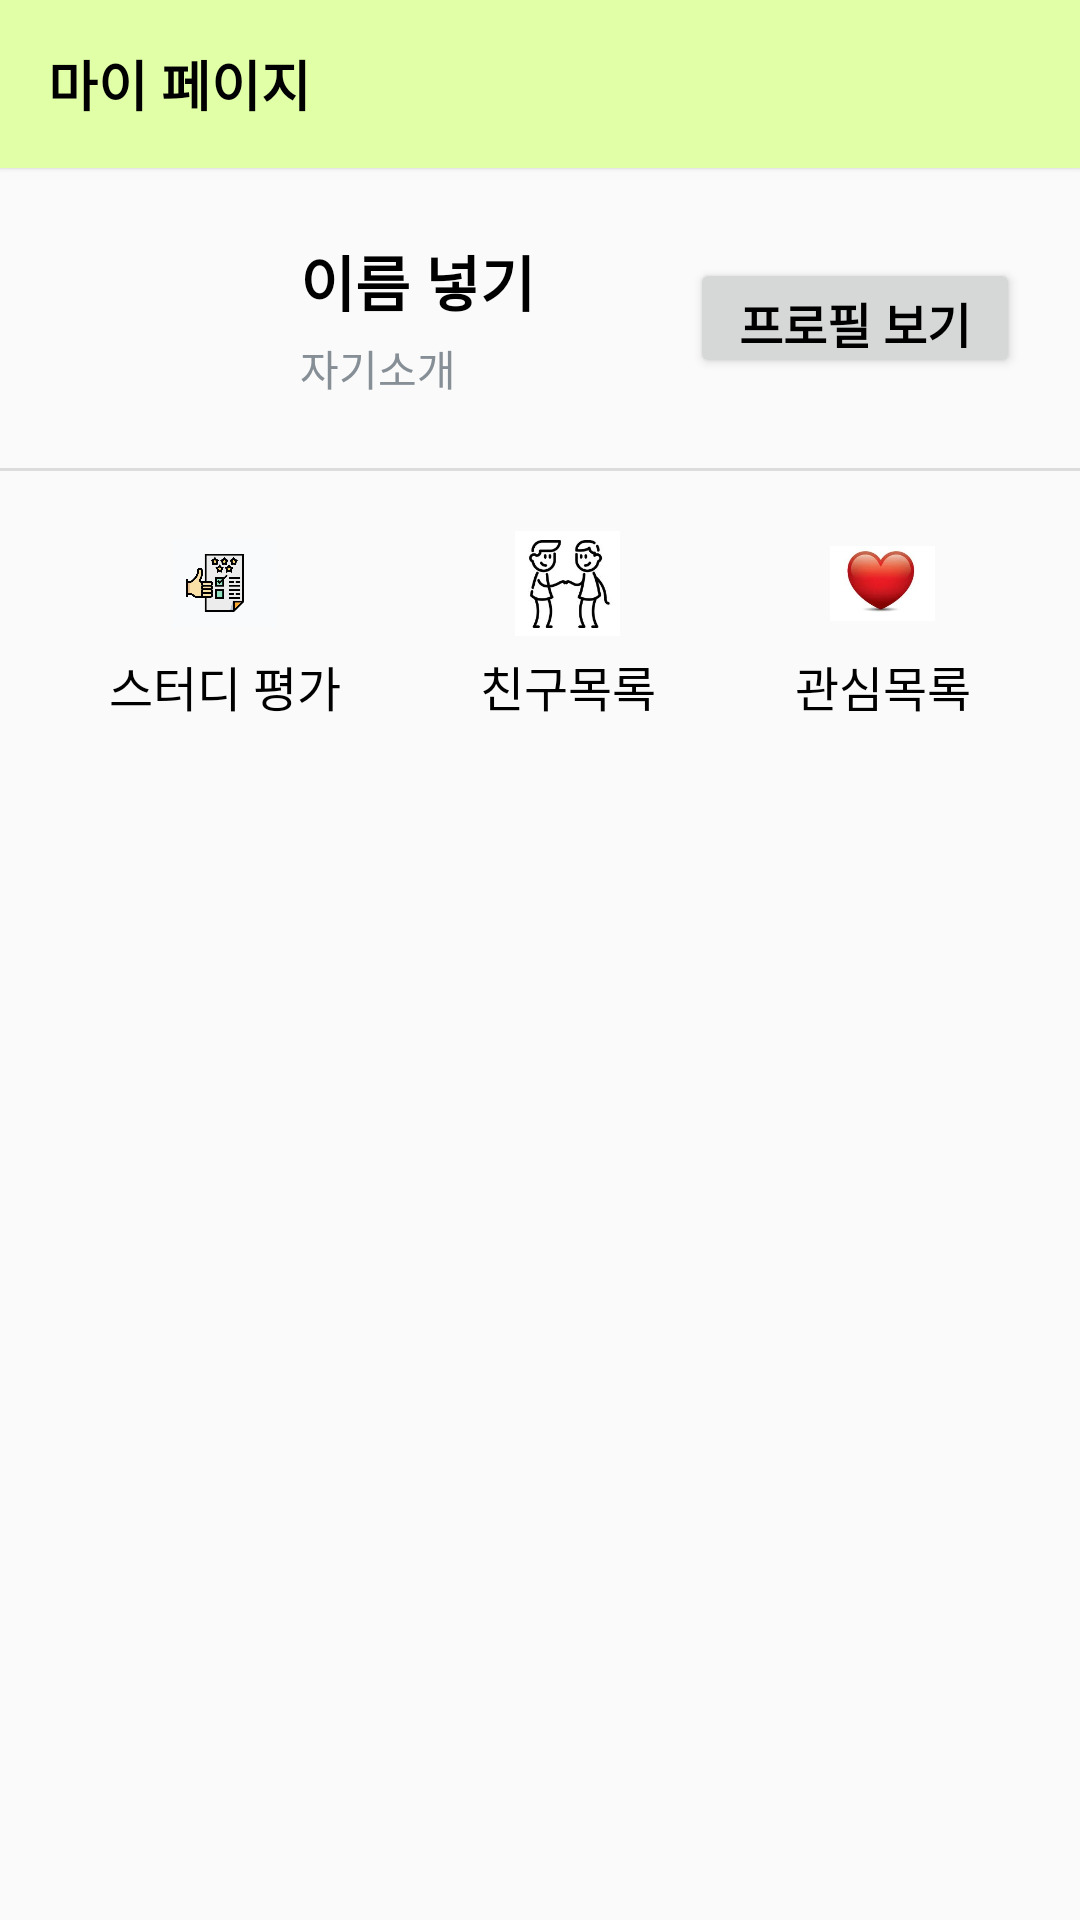

Locate icon controls on the screen. Image size 1080x1920, boxes as (x1, y1, x2, y2).
heart: (847, 551, 915, 611)
rate: (186, 554, 245, 612)
